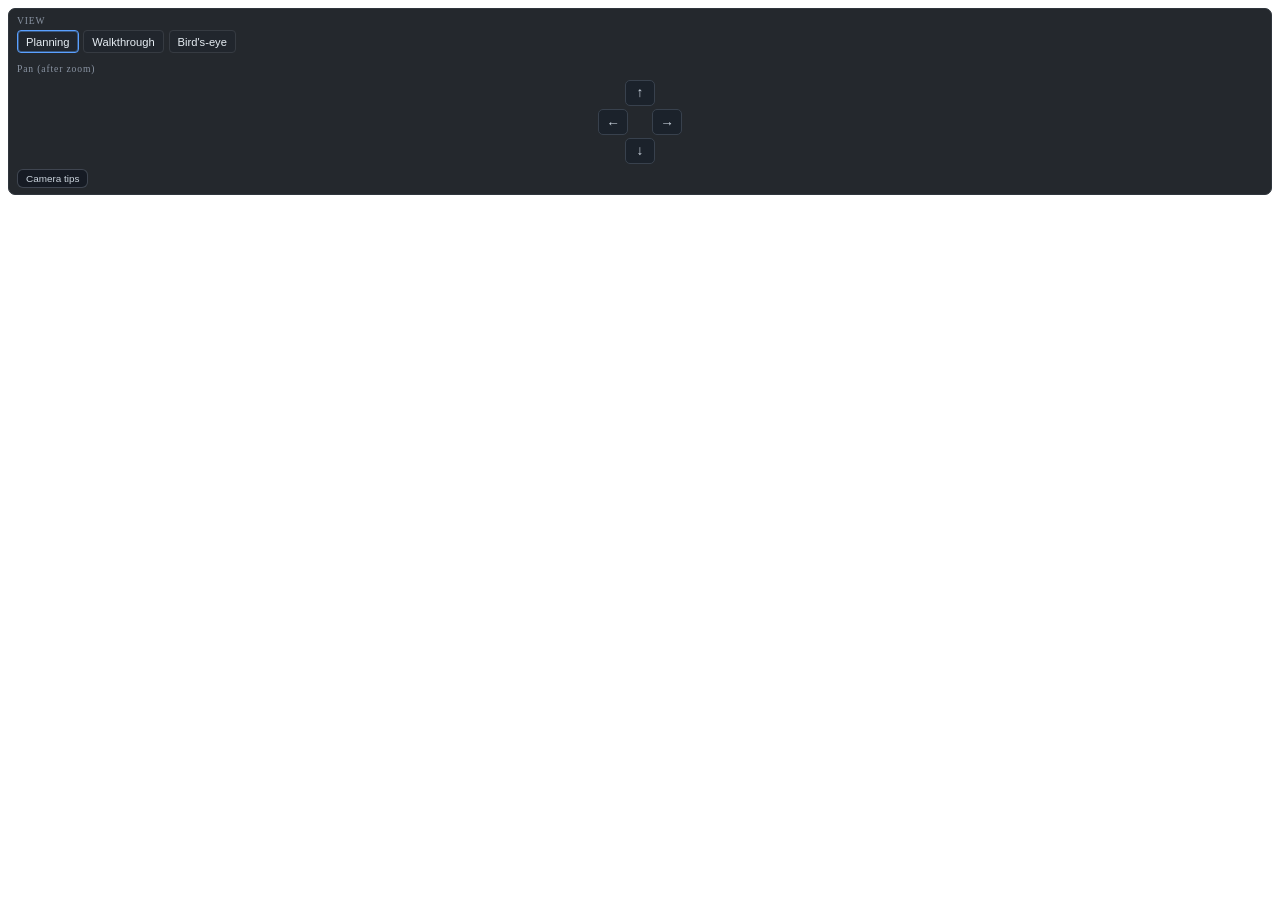
Scenario: Build 1A walkthrough §15 — dismissible controls pane › × Close button dismisses the pane
Click the button "Walkthrough" at (124, 42), box x1=83 y1=30 x2=164 y2=53
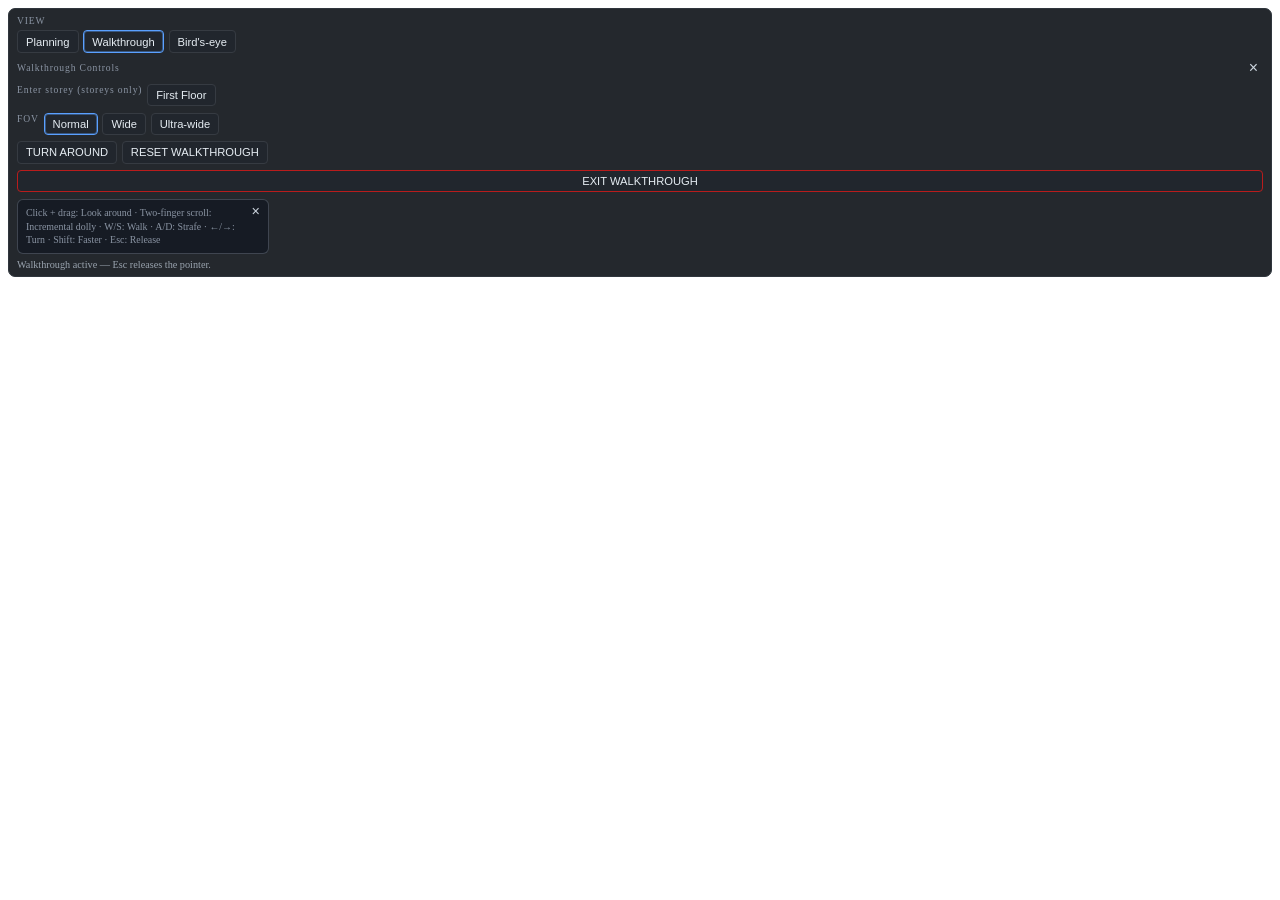
Expected: the text "Click + drag: Look around" is shown, x1=26 y1=207 x2=235 y2=246
Click the button named "Close controls" at (256, 211), box x1=248 y1=202 x2=264 y2=220
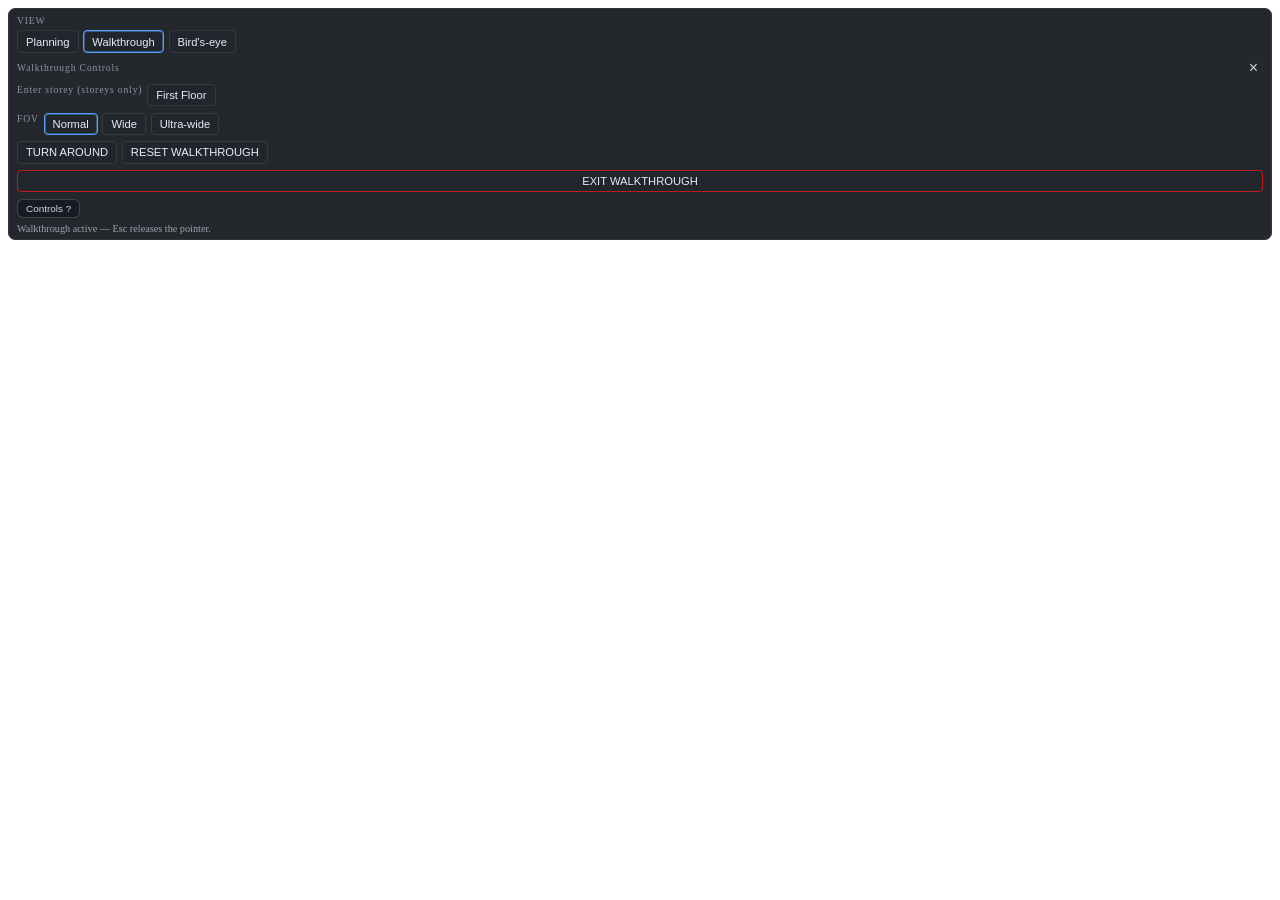
Expected: the text "Click + drag: Look around" is gone
